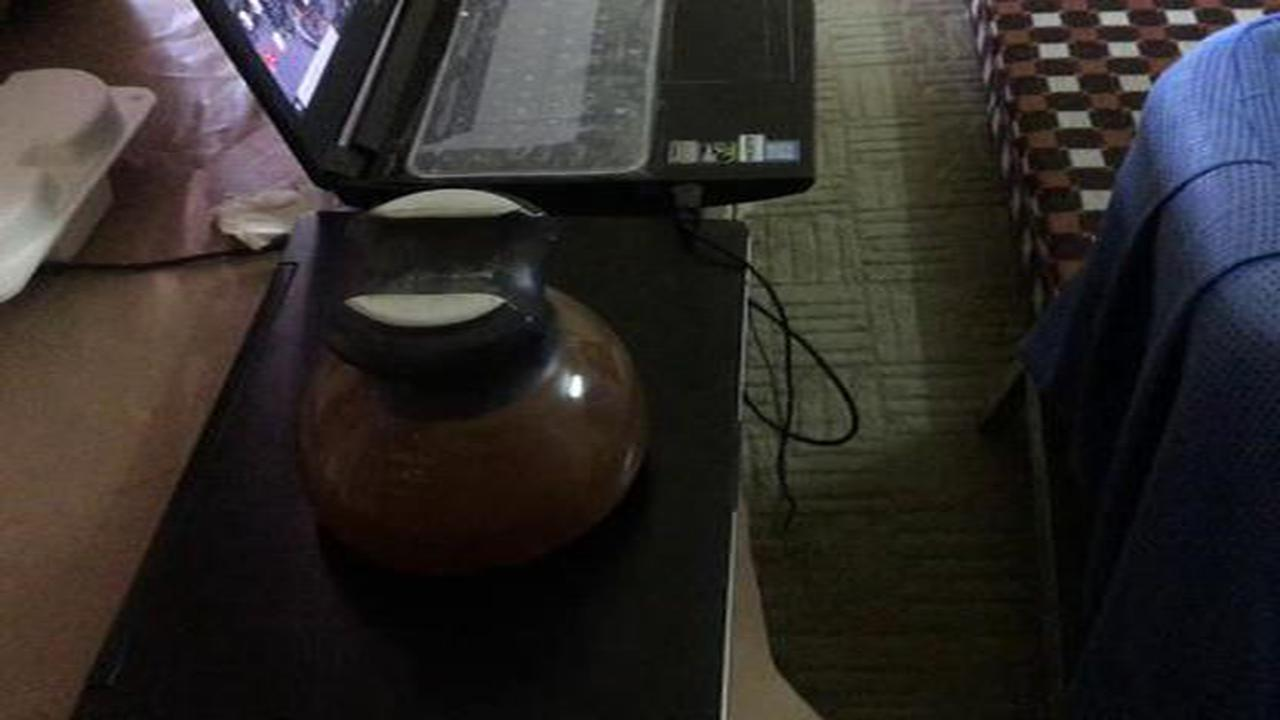insulator_pin: (253, 182, 684, 587)
